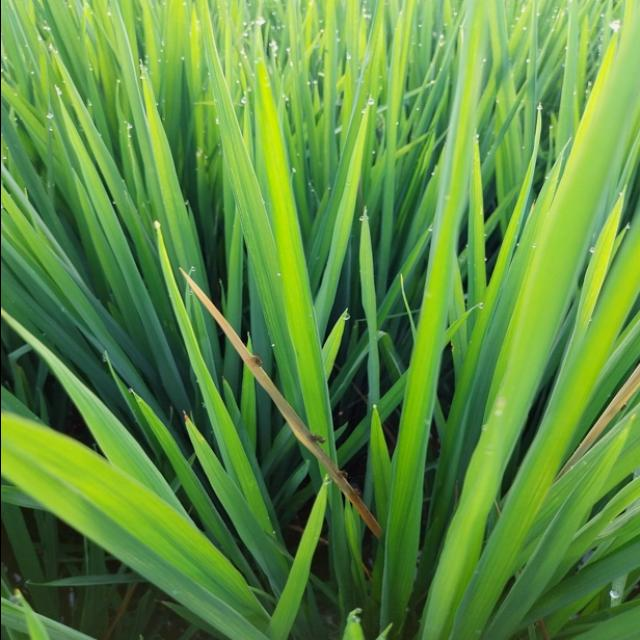healthy: (242, 346, 270, 378), (306, 428, 334, 452), (333, 468, 348, 483), (350, 486, 359, 499)
